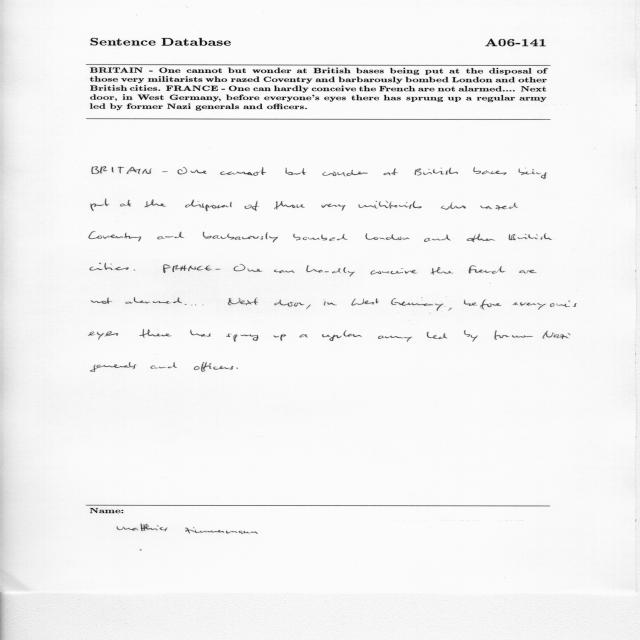word: (203, 232, 278, 243), (391, 298, 444, 311), (512, 300, 577, 310), (306, 265, 355, 277), (89, 231, 141, 242), (185, 200, 232, 211), (358, 201, 422, 209), (92, 166, 151, 174), (163, 264, 212, 273), (322, 330, 362, 341), (220, 167, 266, 176), (91, 363, 137, 372), (464, 299, 501, 310), (125, 297, 182, 304), (494, 330, 533, 340), (293, 234, 348, 241), (194, 363, 234, 372), (415, 168, 459, 176), (469, 265, 506, 274), (371, 268, 418, 275), (518, 168, 547, 179), (366, 233, 410, 240), (509, 233, 552, 240), (139, 329, 172, 338), (226, 333, 259, 342), (322, 170, 368, 176), (90, 263, 129, 270), (473, 167, 507, 175), (480, 203, 518, 210), (89, 331, 118, 340), (543, 331, 571, 340), (274, 201, 305, 209), (177, 167, 207, 175), (228, 298, 258, 306), (466, 234, 495, 242), (234, 264, 263, 272), (351, 298, 379, 306), (91, 199, 109, 211), (158, 232, 185, 240), (424, 234, 451, 242), (275, 300, 305, 307), (378, 336, 412, 342), (441, 202, 466, 210), (150, 362, 177, 369), (145, 200, 167, 208), (431, 267, 453, 275), (321, 204, 346, 211), (464, 330, 478, 342), (286, 168, 307, 175), (91, 297, 112, 304), (190, 330, 211, 337), (245, 201, 259, 211), (427, 332, 447, 339), (383, 168, 398, 175), (273, 334, 286, 341), (323, 300, 337, 306), (274, 270, 294, 274), (120, 200, 131, 206), (519, 270, 537, 273), (299, 334, 308, 338), (306, 305, 311, 309), (448, 307, 452, 311), (185, 304, 196, 305), (162, 171, 168, 172), (215, 269, 221, 270), (236, 367, 238, 369), (134, 270, 135, 271), (202, 305, 204, 305)
